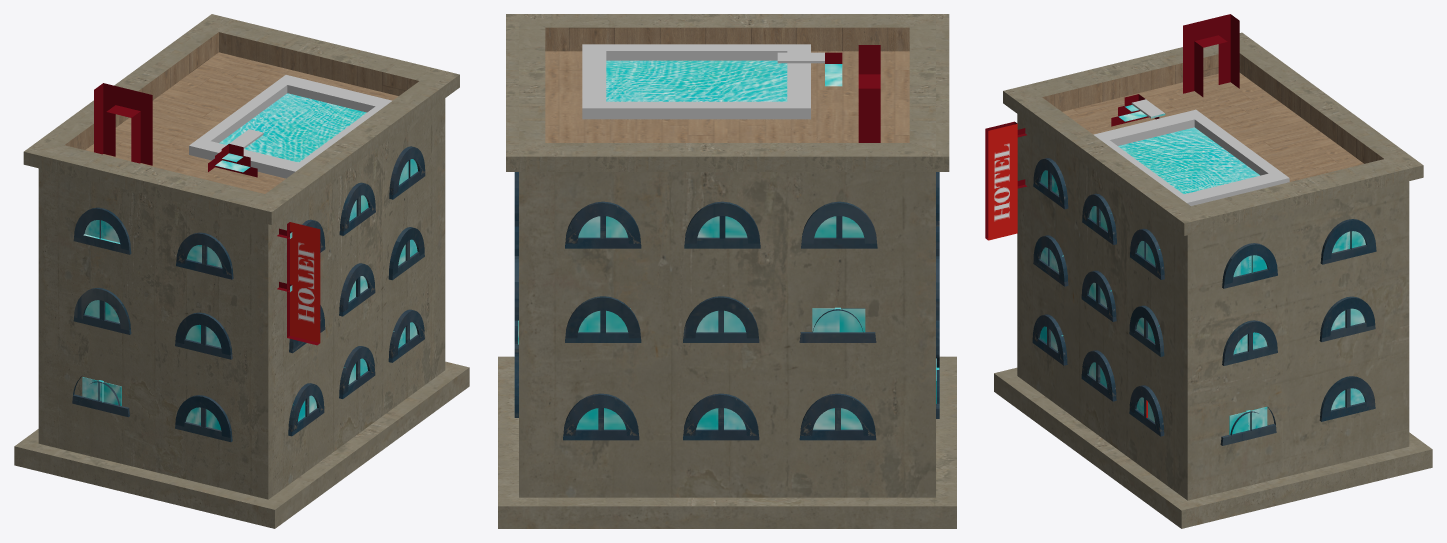
The model's file is Hotel3.fbx.
3 renders of one model, left to right at view 1: azimuth 30°, elevation 25°; view 2: azimuth 150°, elevation 25°; view 3: azimuth 270°, elevation 25°, orthographic. The views are drawn at different scales.
Parts seen in each view (by area): view 1: Cube.011; view 2: Cube.011; view 3: Cube.011.
Part boxes in pixels (x1,y1,x2,y2): Cube.011: [14, 14, 469, 528]; Cube.011: [498, 14, 956, 528]; Cube.011: [985, 14, 1432, 528].
Bounding box in the file's own units: 146 × 120 × 139.
